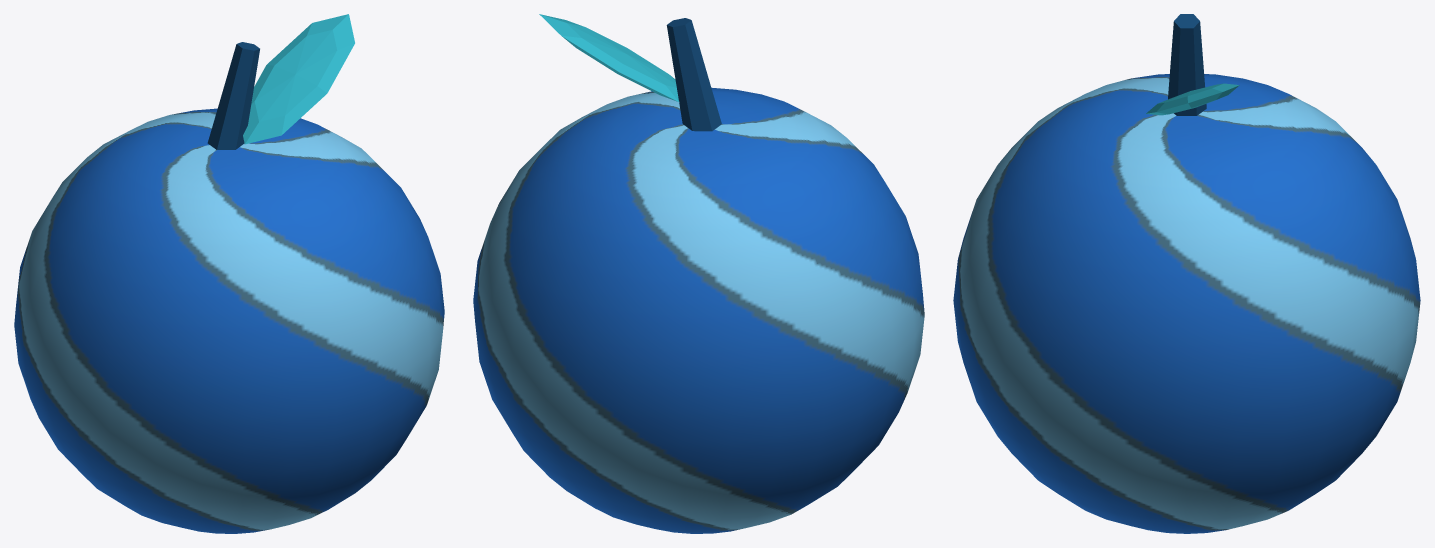
File: Fruit_Tide.fbx
The picture shows the model from 3 angles, left to right: view 1: azimuth 30°, elevation 25°; view 2: azimuth 150°, elevation 25°; view 3: azimuth 270°, elevation 25°; orthographic projection. The views are drawn at different scales.
Visible parts, largest first — view 1: Fruit_Tide; view 2: Fruit_Tide; view 3: Fruit_Tide.
Part boxes in pixels (left/top/right/bottom): Fruit_Tide: left=14, top=14, right=444, bottom=533; Fruit_Tide: left=473, top=14, right=924, bottom=533; Fruit_Tide: left=953, top=14, right=1420, bottom=533.
Size of the model in its own units: 1.6 by 1.9 by 1.6.
Materials: 1 (1 with a texture image).
